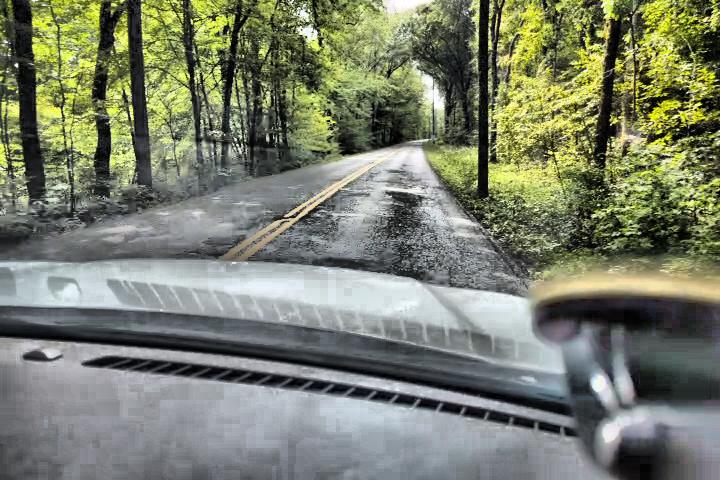pothole: (270, 211, 307, 226)
